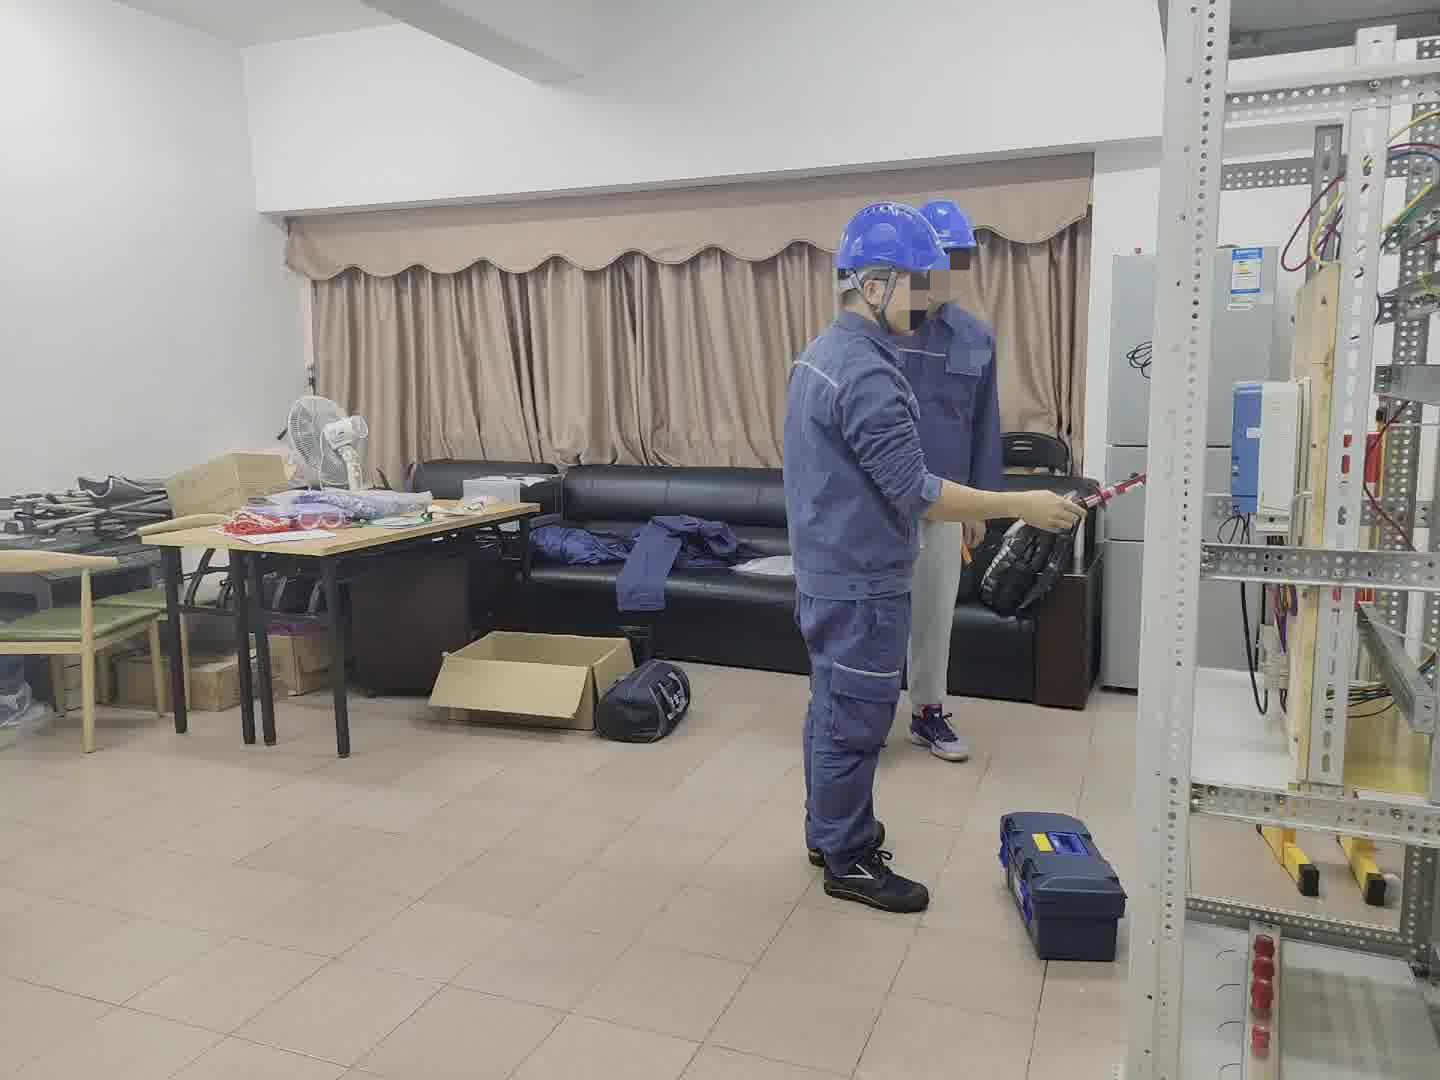halt: (831, 202, 958, 334), (917, 202, 983, 302)
inear: (854, 268, 905, 324)
